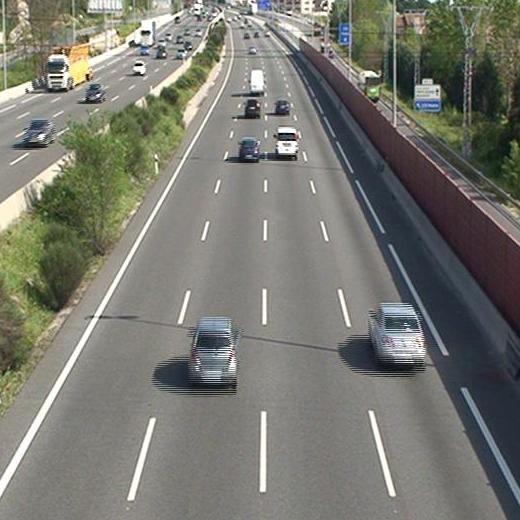car: (369, 303, 426, 363), (188, 319, 238, 384), (274, 127, 298, 156), (238, 138, 259, 160), (244, 98, 260, 116), (274, 100, 290, 112)
van: (249, 69, 265, 94)
